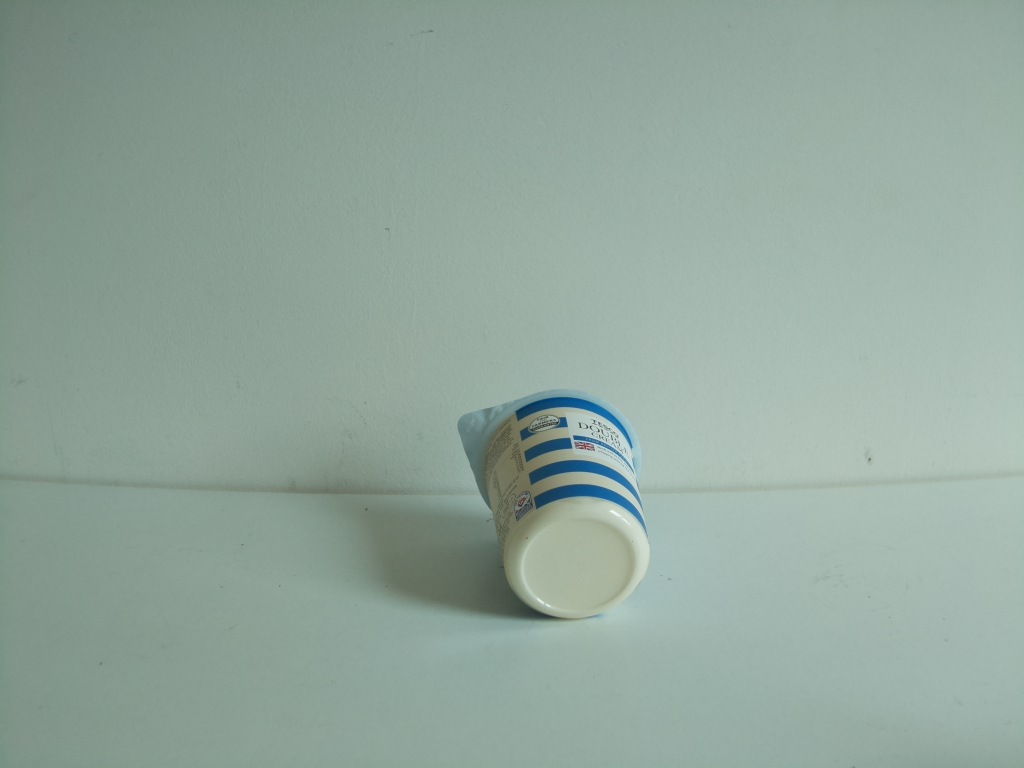cream: (456, 391, 652, 619)
